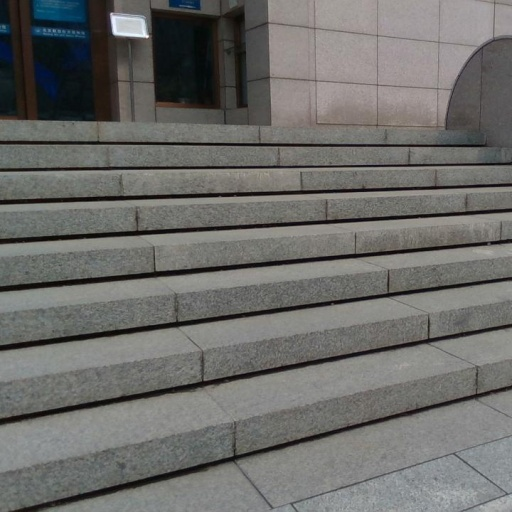Stairs: (0, 122, 512, 512)
